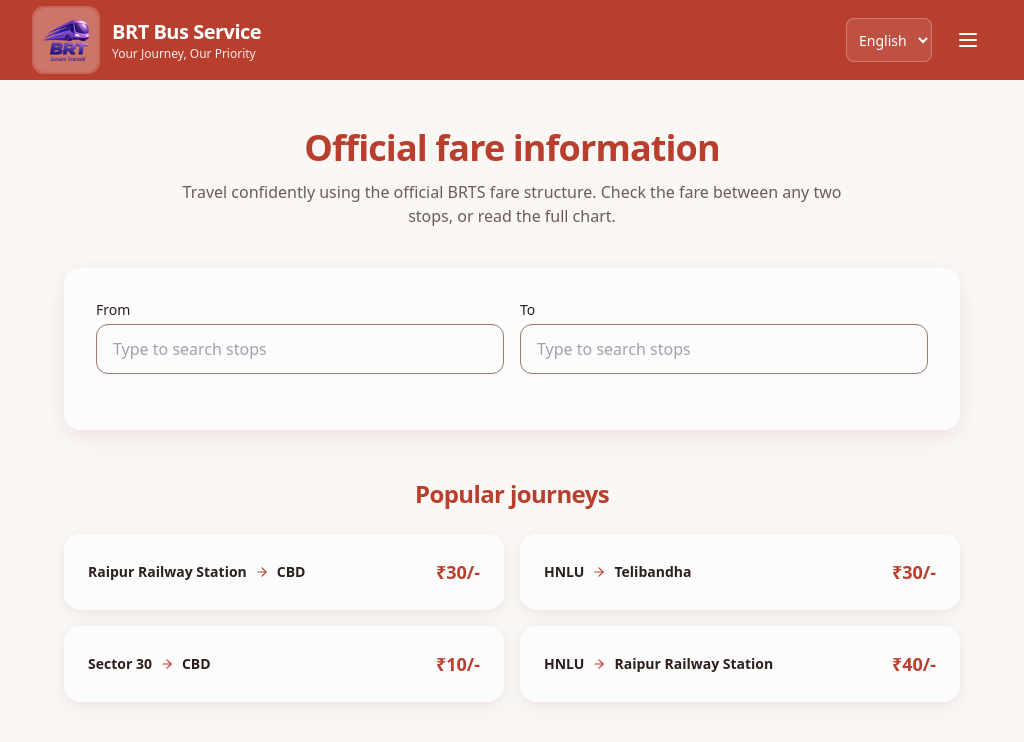
Test: checking a fare between two stops › groups every fare from the chosen origin
In the field labelled "From": (300, 349) [96, 324, 504, 374], type "HNLU"
(page scrolled)
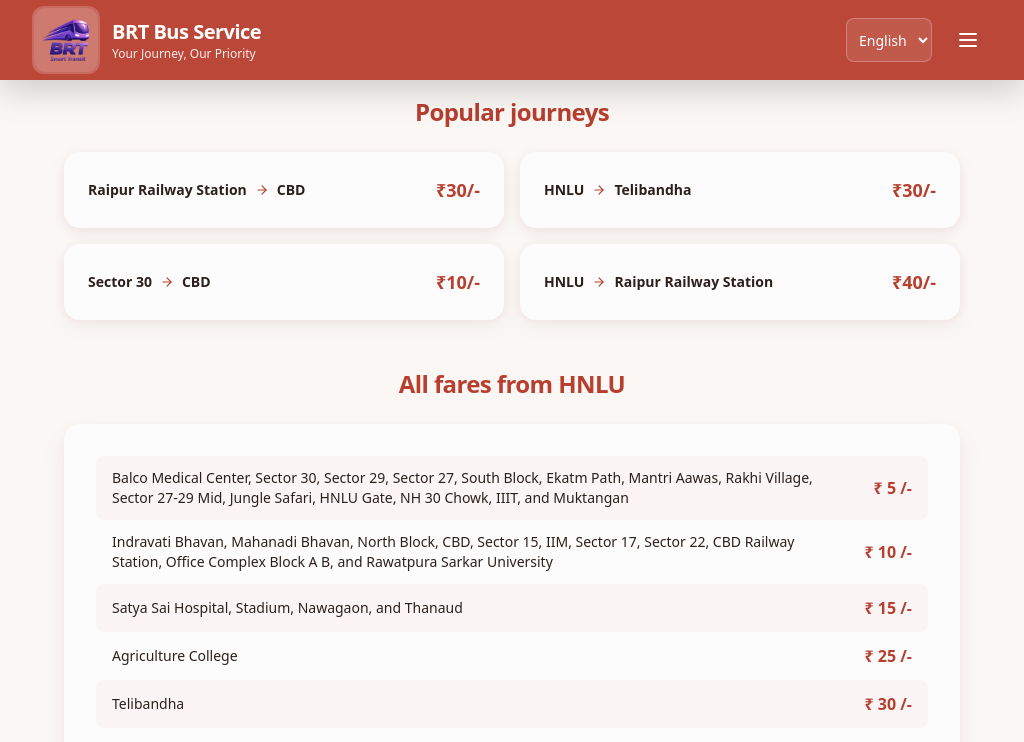
Check: the heading "All fares from HNLU" is shown, box [399, 367, 625, 400]
